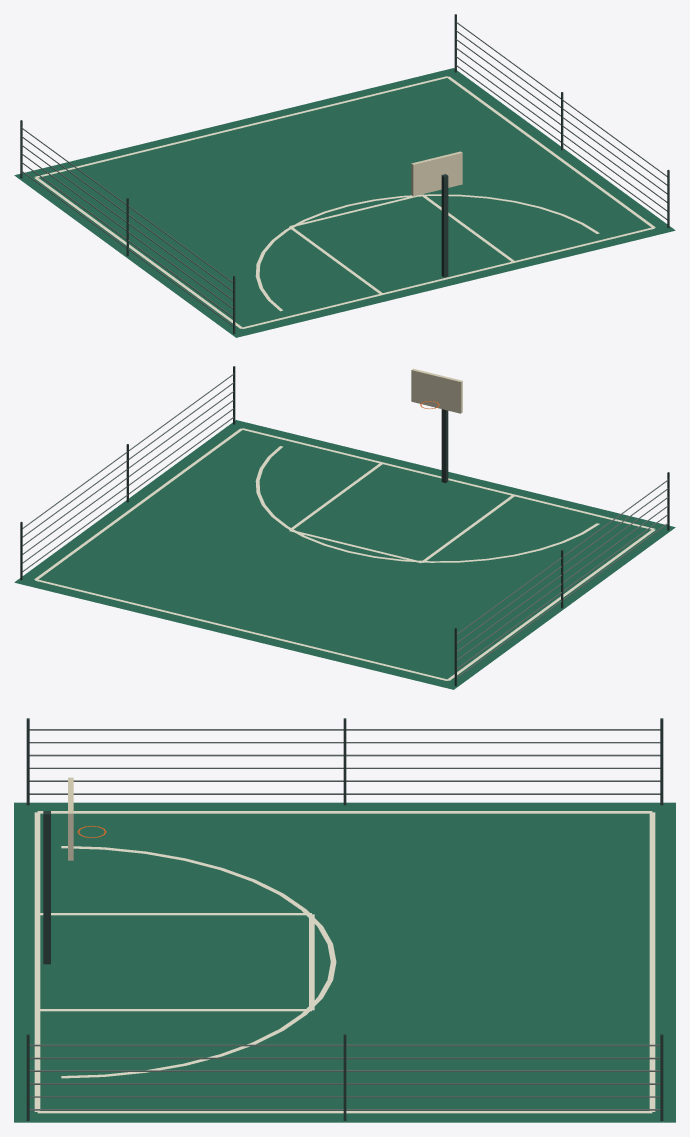
Rendered from BasketballCourt.obj.
The picture shows the model from 3 angles, top to bottom: view 1: azimuth 30°, elevation 25°; view 2: azimuth 150°, elevation 25°; view 3: azimuth 270°, elevation 25°; orthographic projection. The views are drawn at different scales.
Parts seen in each view (by area): view 1: BasketballCourt; view 2: BasketballCourt; view 3: BasketballCourt.
Boxes of the visible parts, left/top/right/bottom form: BasketballCourt: left=14, top=14, right=675, bottom=337; BasketballCourt: left=14, top=366, right=675, bottom=689; BasketballCourt: left=14, top=718, right=675, bottom=1122.
Size of the model in its own units: 16 by 3.9 by 14.
Materials: 1 (1 with a texture image).
